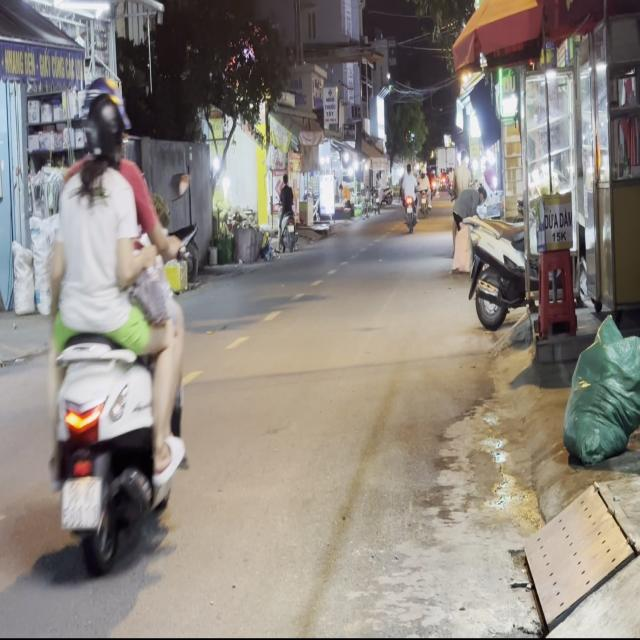helmet: (78, 86, 126, 174)
licenseplate: (38, 74, 192, 580)
nohelmet: (61, 476, 100, 527)
